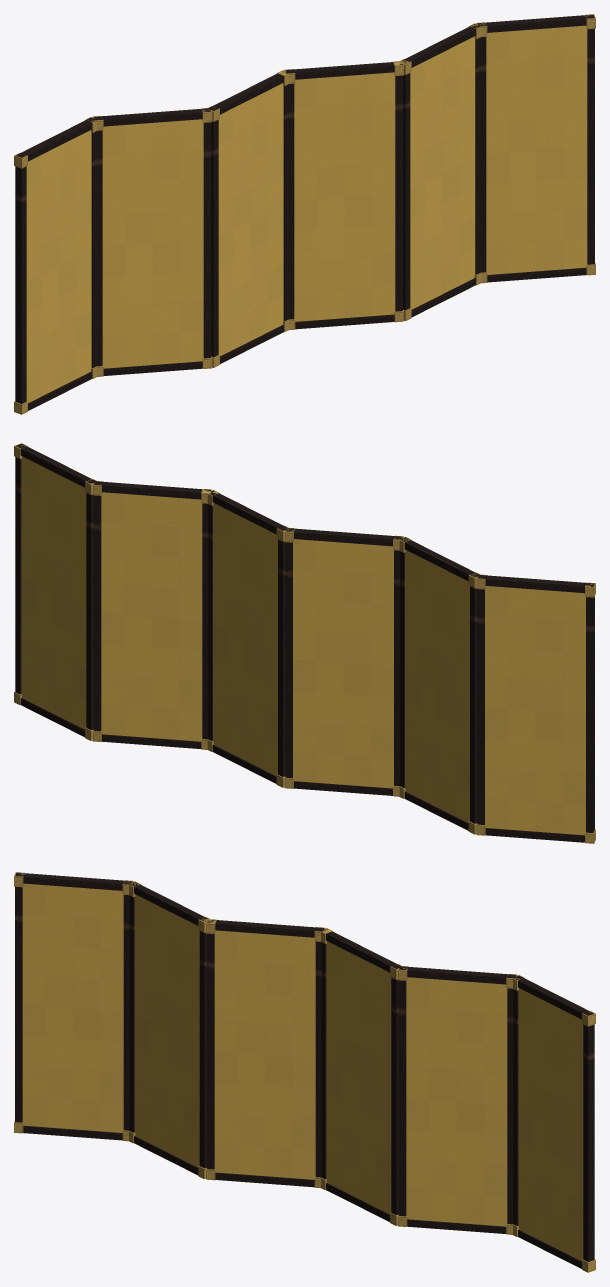
File: byobu.glb
The picture shows the model from 3 angles, top to bottom: view 1: azimuth 30°, elevation 25°; view 2: azimuth 150°, elevation 25°; view 3: azimuth 330°, elevation 25°; orthographic projection.
Parts seen in each view (by area): view 1: box; view 2: box; view 3: box.
Part boxes in pixels (bbox=[...]): box: bbox=[14, 14, 595, 414]; box: bbox=[14, 443, 595, 843]; box: bbox=[14, 872, 595, 1272].
Size of the model in its own units: 1.42 by 0.6 by 0.1075.
3 materials, 3 textured.
